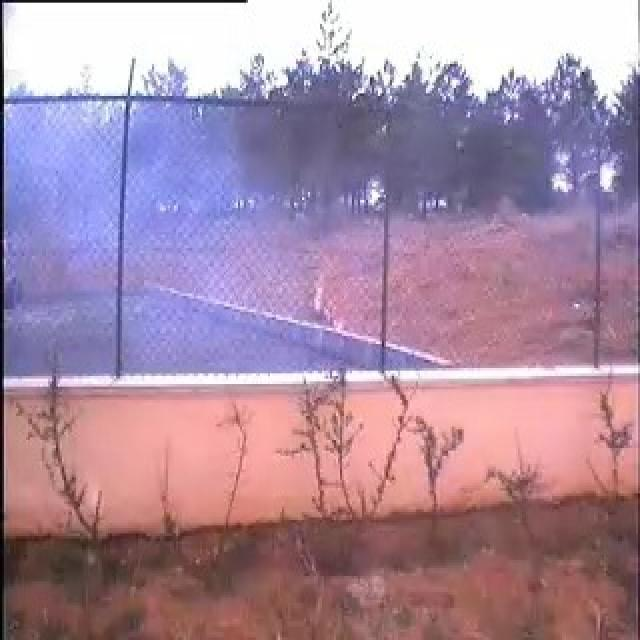Smoke: (53, 122, 302, 364)
